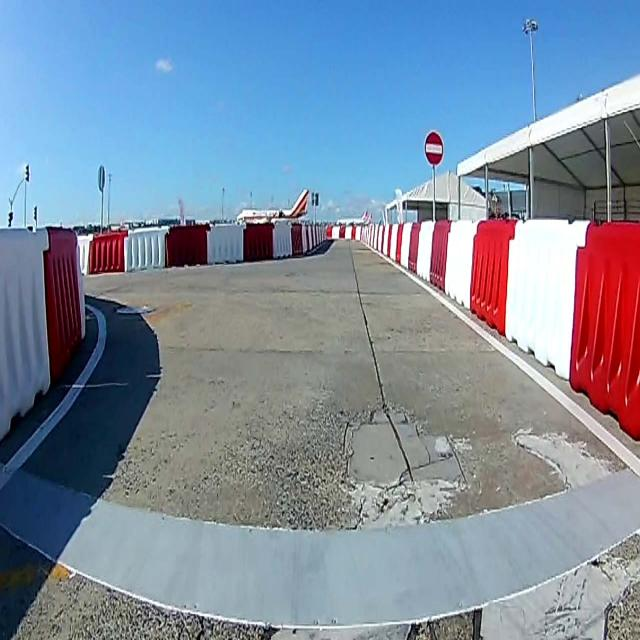girisyok: (423, 130, 443, 166)
